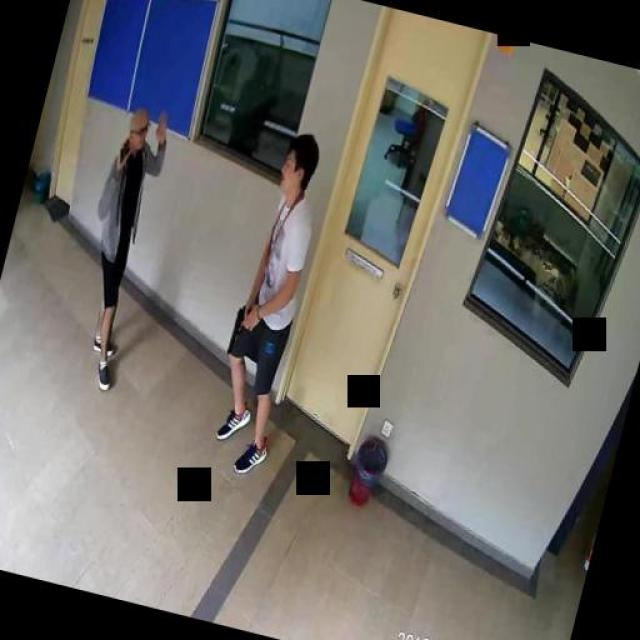gun: (226, 298, 258, 357)
